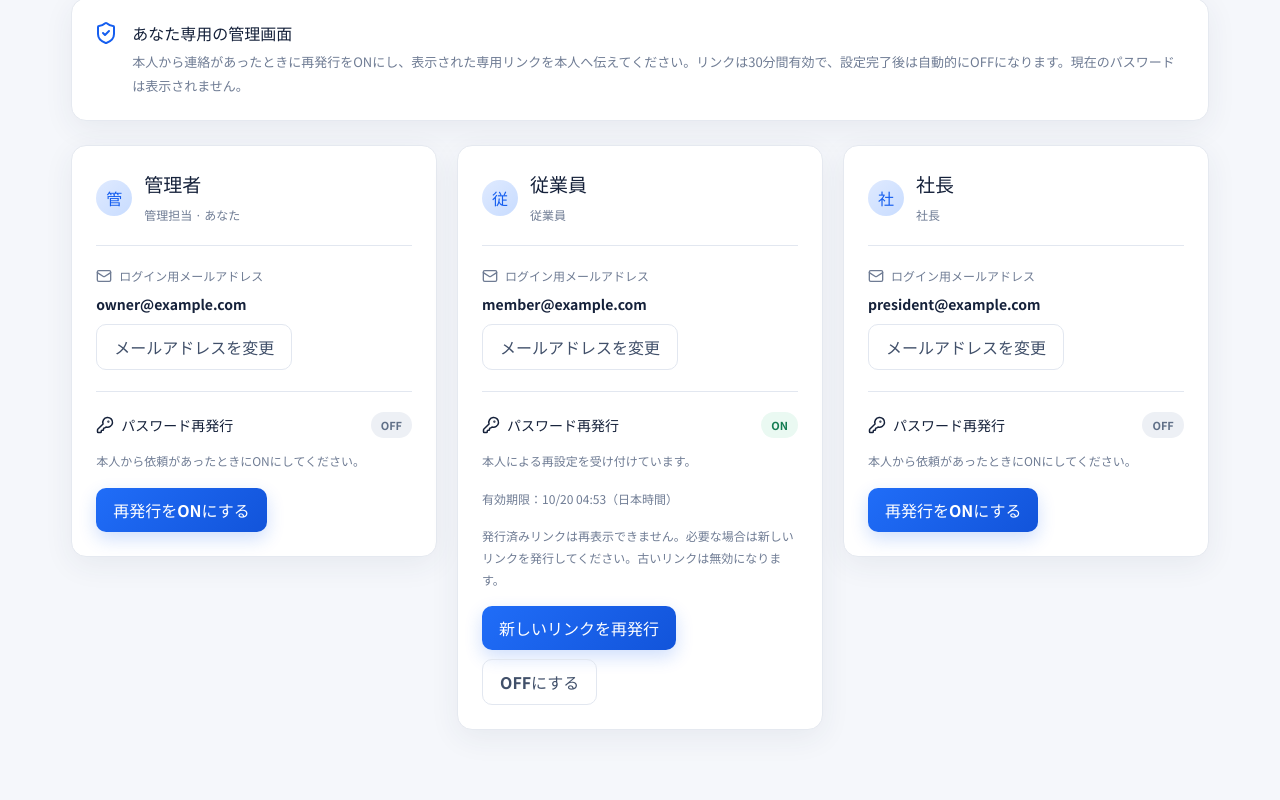
Test: requires confirmation when replacing an active link after reload
(page scrolled)
Check: the text "発行済みリンクは再表示できません。必要な場合は新しいリンクを発行してください。古いリンクは無効になります。" is shown, box [482, 526, 798, 590]
What coordinates should you click on to do the following:
click the button "新しいリンクを再発行"
I would click on:
 (579, 628)
Its box is [482, 606, 676, 650].
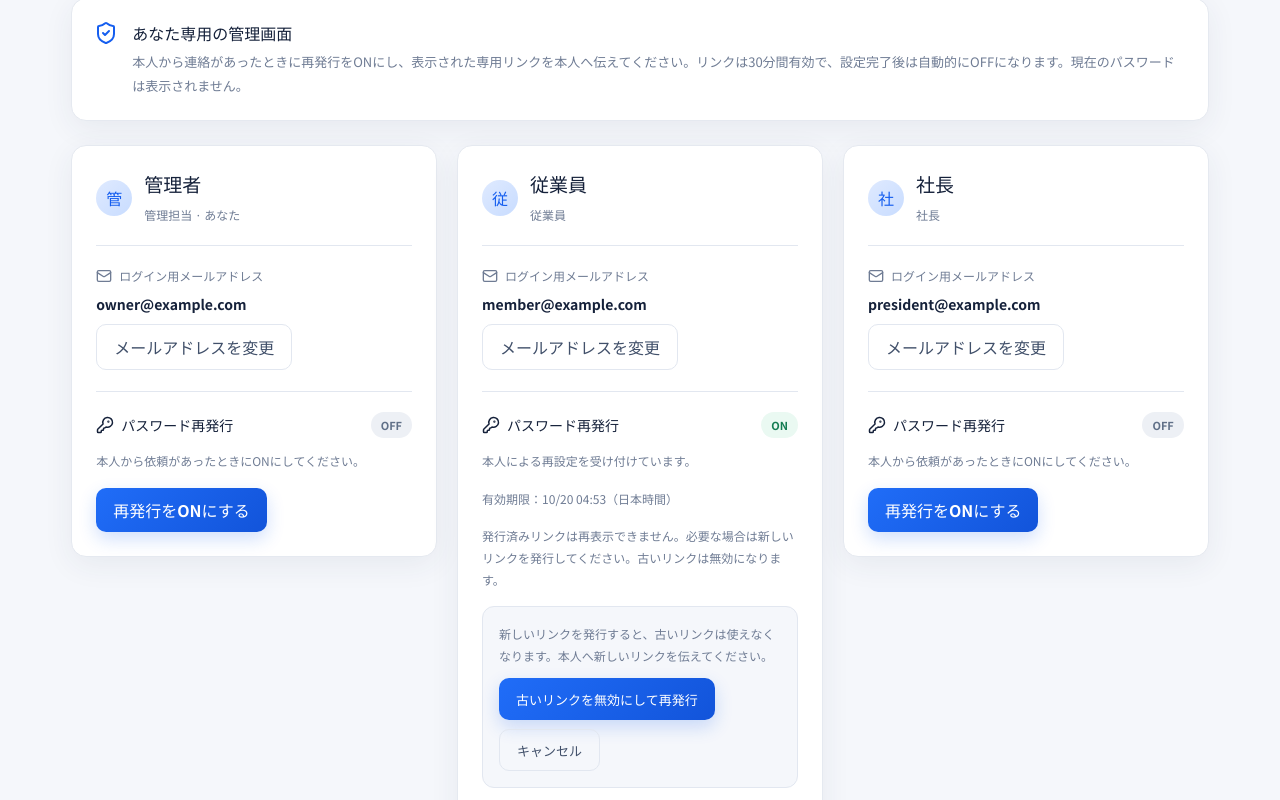
What coordinates should you click on to do the following:
click the button "古いリンクを無効にして再発行"
I would click on:
 (607, 699)
Its box is [499, 678, 715, 720].
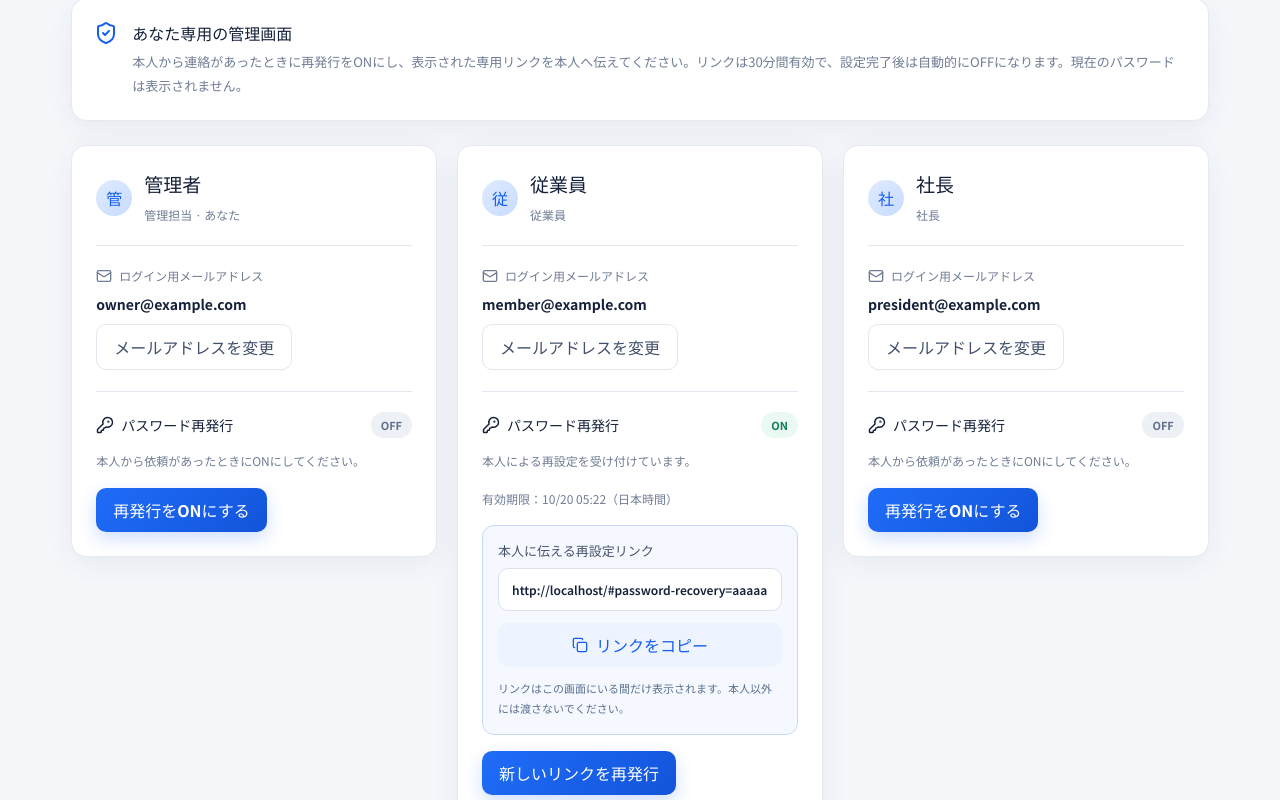
Check: the field labelled "本人に伝える再設定リンク" is shown, box [498, 568, 782, 612]
